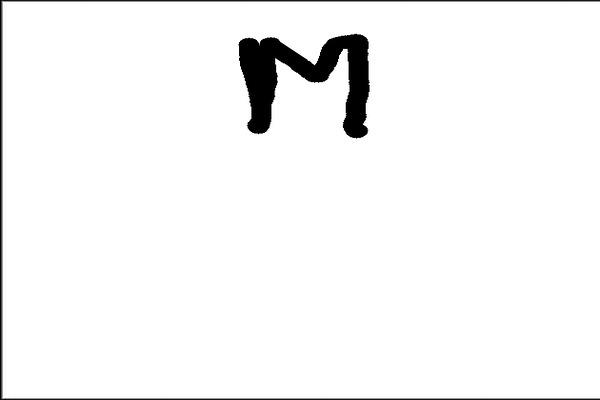M: (232, 34, 374, 138)
